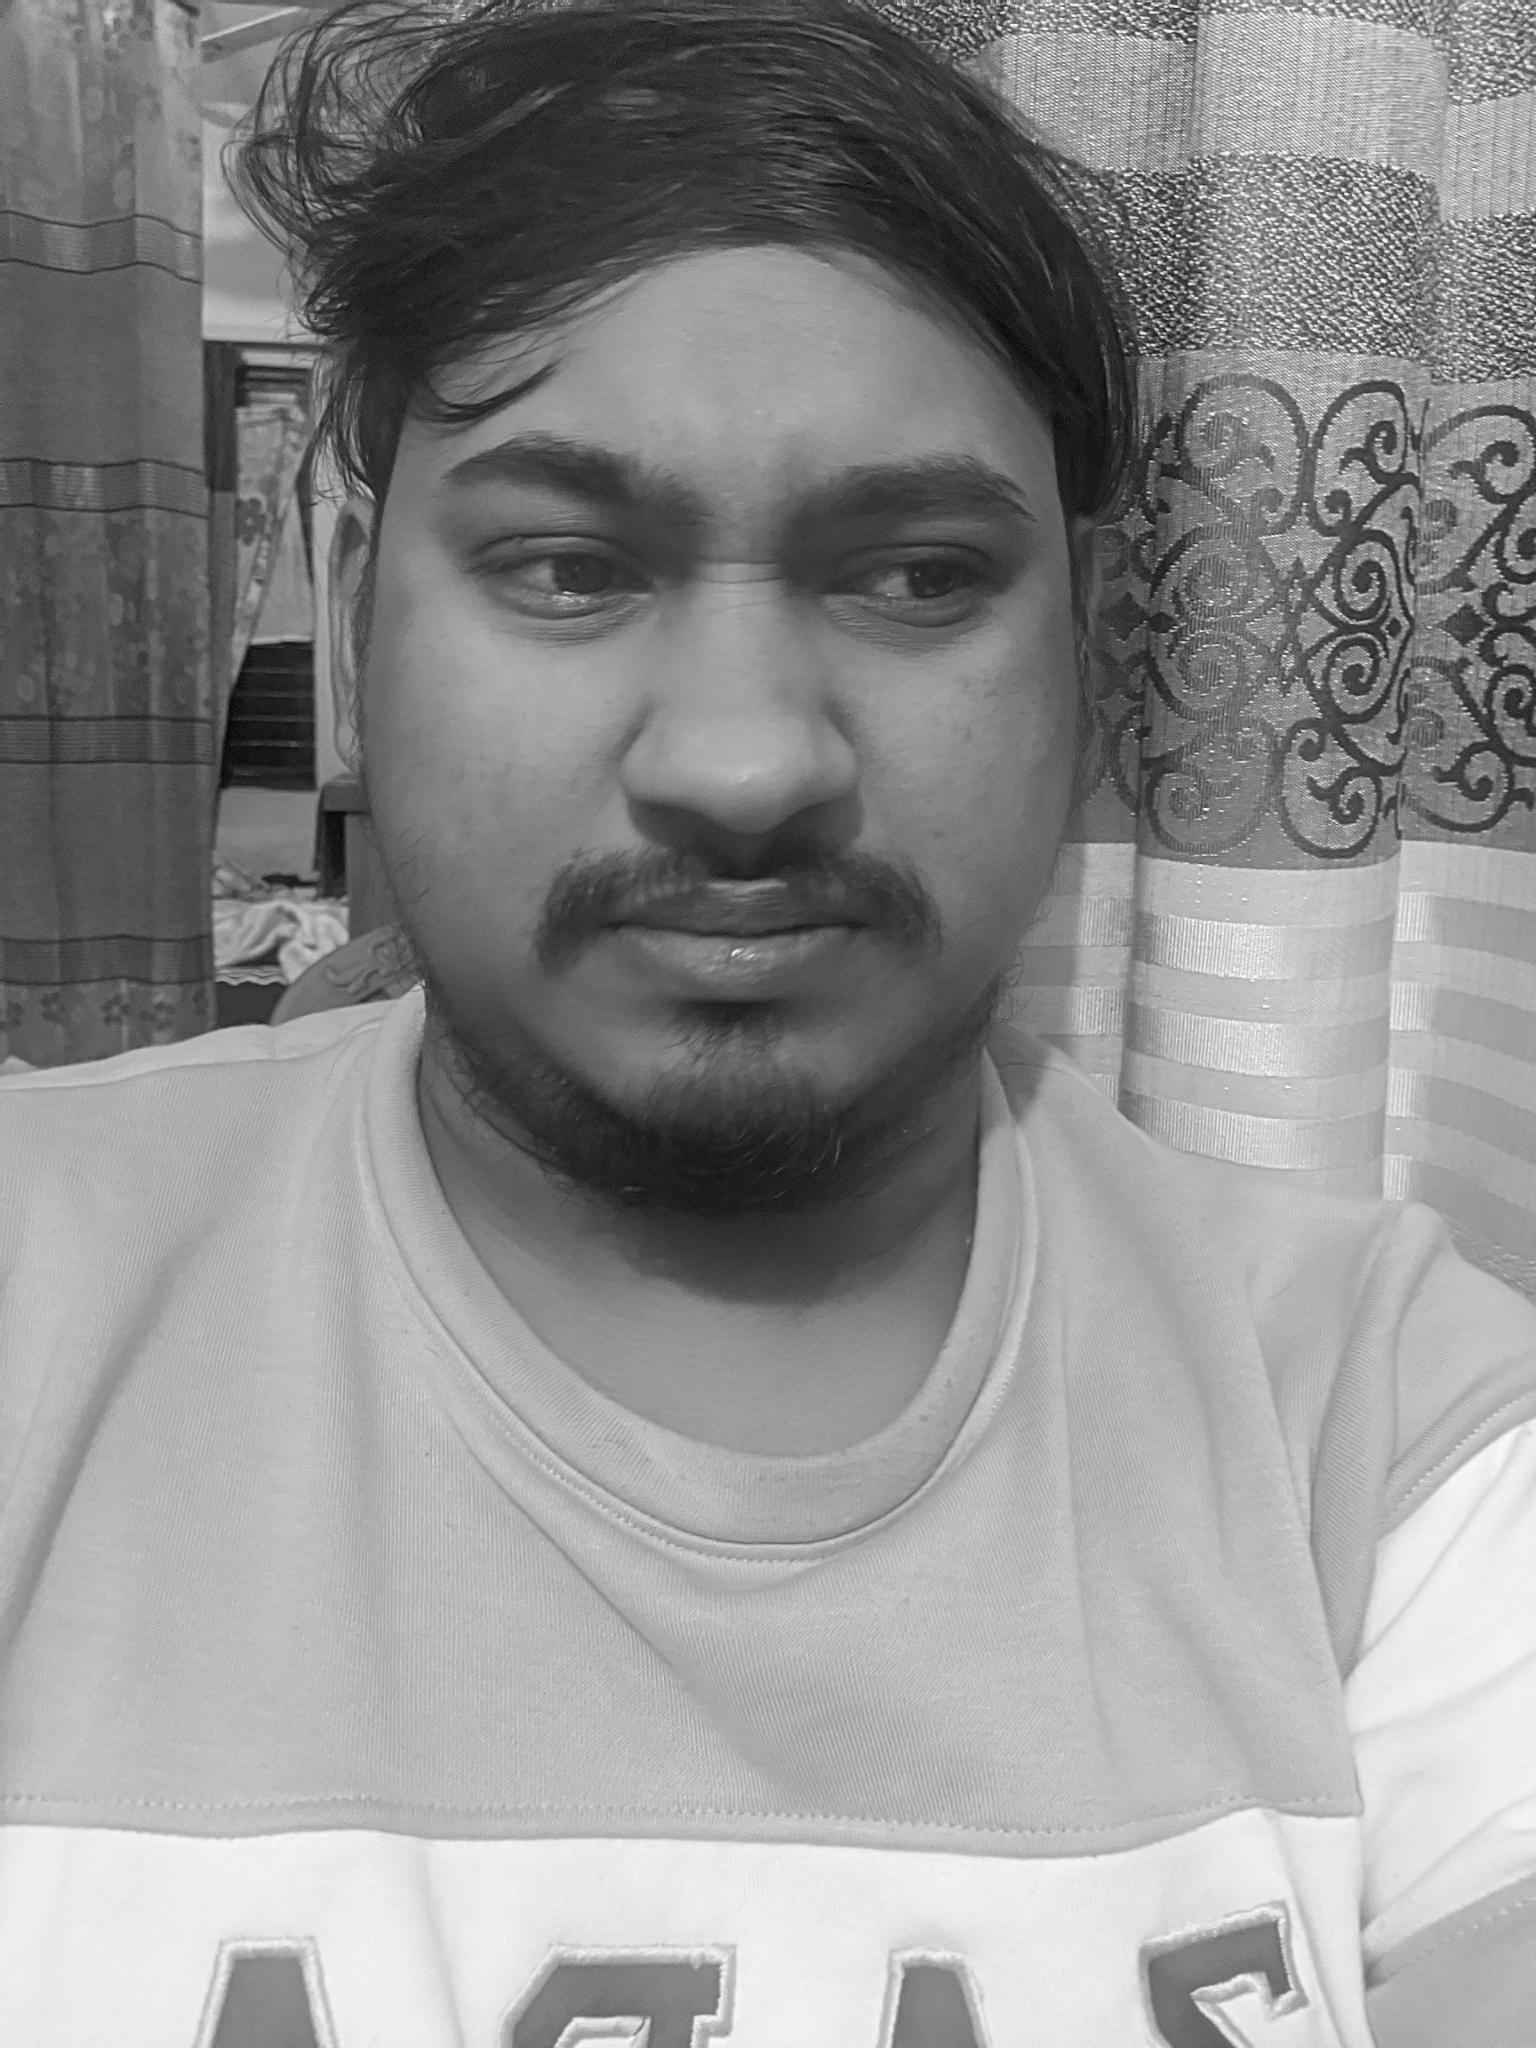Disgust: (397, 347, 1084, 1190)
